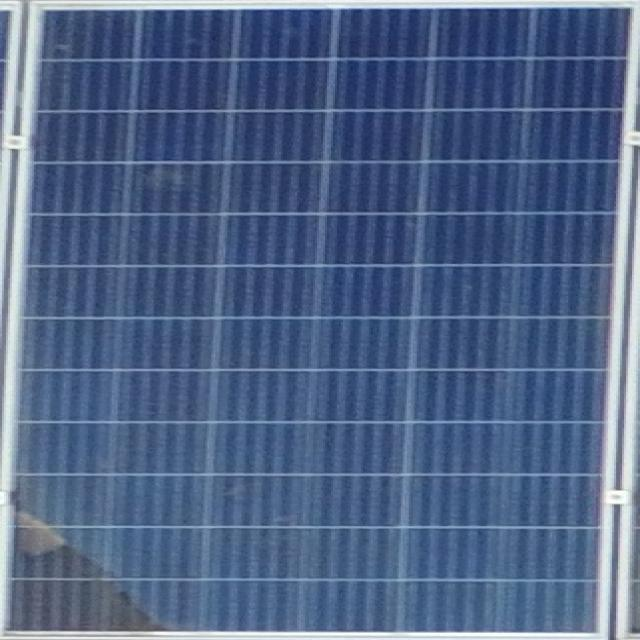Dust: (5, 477, 159, 640)
bird-droppings: (125, 153, 221, 203)
